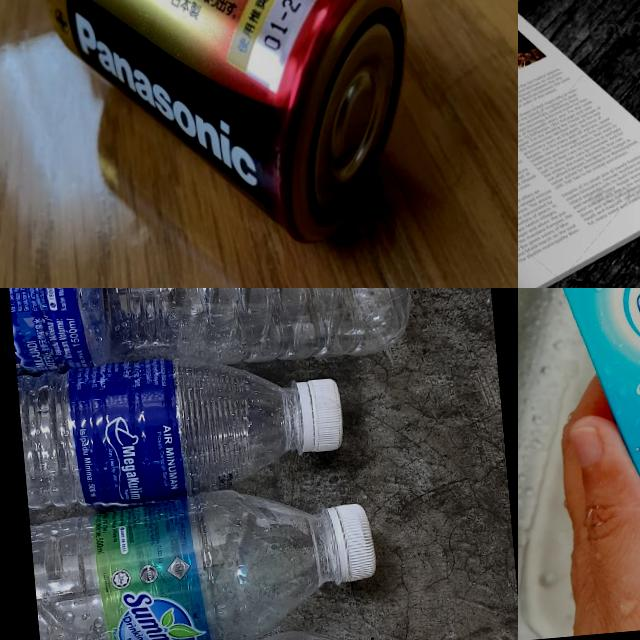bateria: (30, 0, 429, 264)
caixinha: (550, 288, 640, 634)
garrafa plástica: (28, 477, 352, 640), (15, 346, 304, 514), (0, 288, 427, 385)
papel: (518, 0, 640, 288)
tampa plástica: (327, 500, 380, 584), (304, 377, 346, 452)
